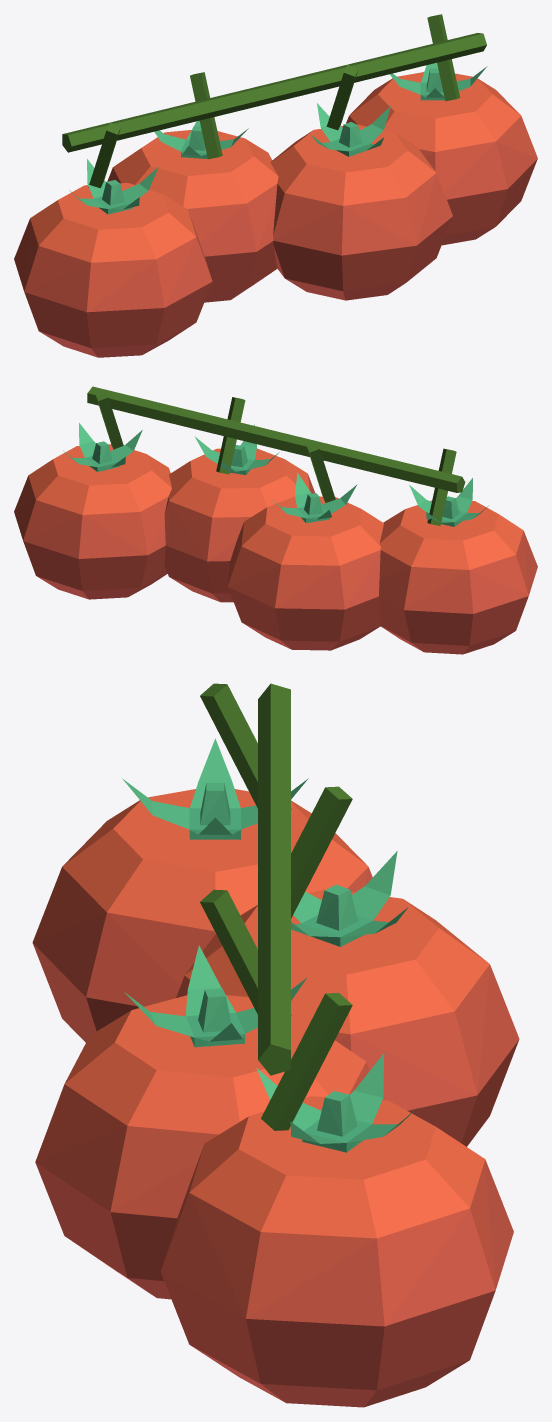
File: g-tomatoes.glb
The picture shows the model from 3 angles, top to bottom: view 1: azimuth 30°, elevation 25°; view 2: azimuth 150°, elevation 25°; view 3: azimuth 270°, elevation 25°; orthographic projection. The views are drawn at different scales.
Visible parts, largest first — view 1: g_tomatoes; view 2: g_tomatoes; view 3: g_tomatoes.
Part boxes in pixels (bbox=[...]): g_tomatoes: bbox=[14, 14, 537, 357]; g_tomatoes: bbox=[14, 386, 537, 654]; g_tomatoes: bbox=[32, 683, 519, 1407].
Size of the model in its own units: 0.179 by 0.0674 by 0.0799.
